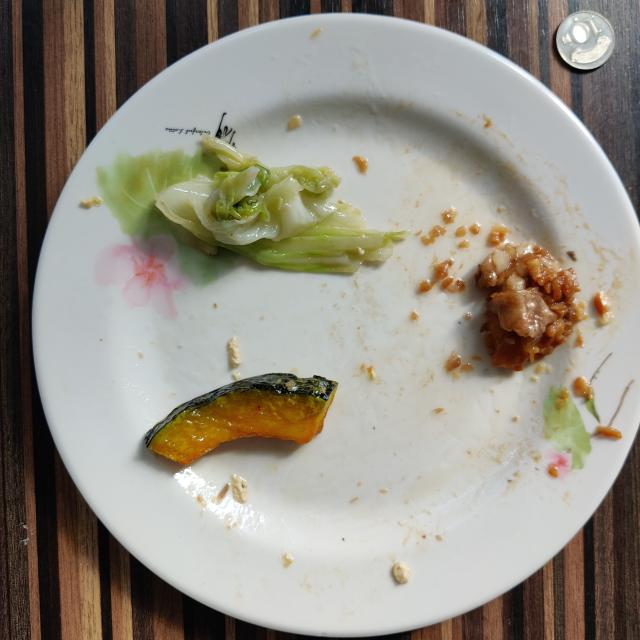Kabayaki sea bream fillet: (475, 244, 586, 370)
cabbage: (155, 135, 402, 272)
coin: (556, 11, 615, 70)
pumpkin: (145, 372, 338, 464)
